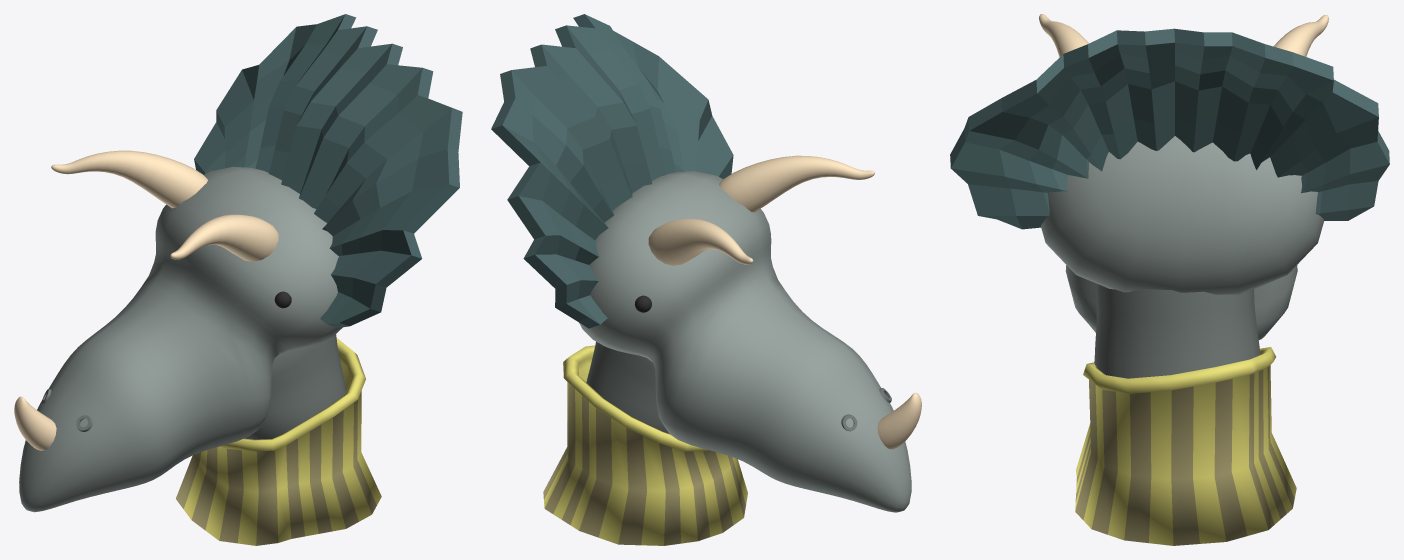
Rendered from Niamh.fbx.
3 views of the same model, side by side, from view 1: azimuth 30°, elevation 25°; view 2: azimuth 150°, elevation 25°; view 3: azimuth 270°, elevation 25° (orthographic). The views are drawn at different scales.
Visible parts, largest first — view 1: Cube.180; view 2: Cube.180; view 3: Cube.180.
Part boxes in pixels (<box>): Cube.180: <box>14,14,462,545</box>; Cube.180: <box>491,14,921,545</box>; Cube.180: <box>950,14,1389,545</box>.
Bounding box in the file's own units: 218 × 181 × 242.
